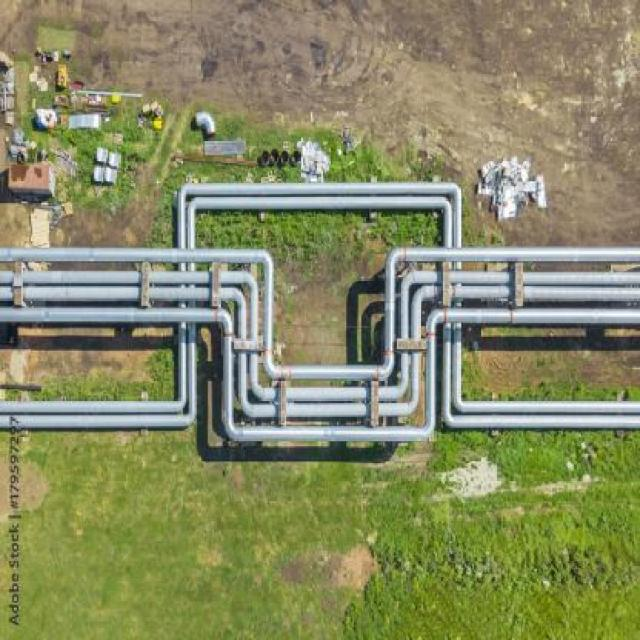gas: (0, 305, 234, 338), (0, 246, 274, 271), (384, 243, 640, 267), (0, 283, 248, 306), (223, 422, 434, 446), (187, 196, 450, 215), (426, 306, 640, 328), (0, 268, 257, 286), (400, 269, 640, 286), (440, 412, 640, 432), (411, 286, 640, 303), (175, 181, 463, 194), (0, 412, 197, 430), (250, 382, 407, 401), (1, 398, 187, 414), (262, 248, 284, 380), (263, 356, 394, 378), (241, 402, 419, 418), (454, 399, 640, 413), (221, 308, 236, 442), (234, 288, 248, 417), (425, 308, 438, 446), (246, 272, 260, 397), (399, 271, 408, 397), (188, 324, 198, 430), (385, 248, 393, 377), (442, 328, 452, 429), (454, 328, 466, 409), (412, 287, 419, 418), (451, 182, 464, 247), (437, 195, 454, 243), (177, 324, 186, 411), (176, 184, 187, 244), (185, 213, 197, 252)
